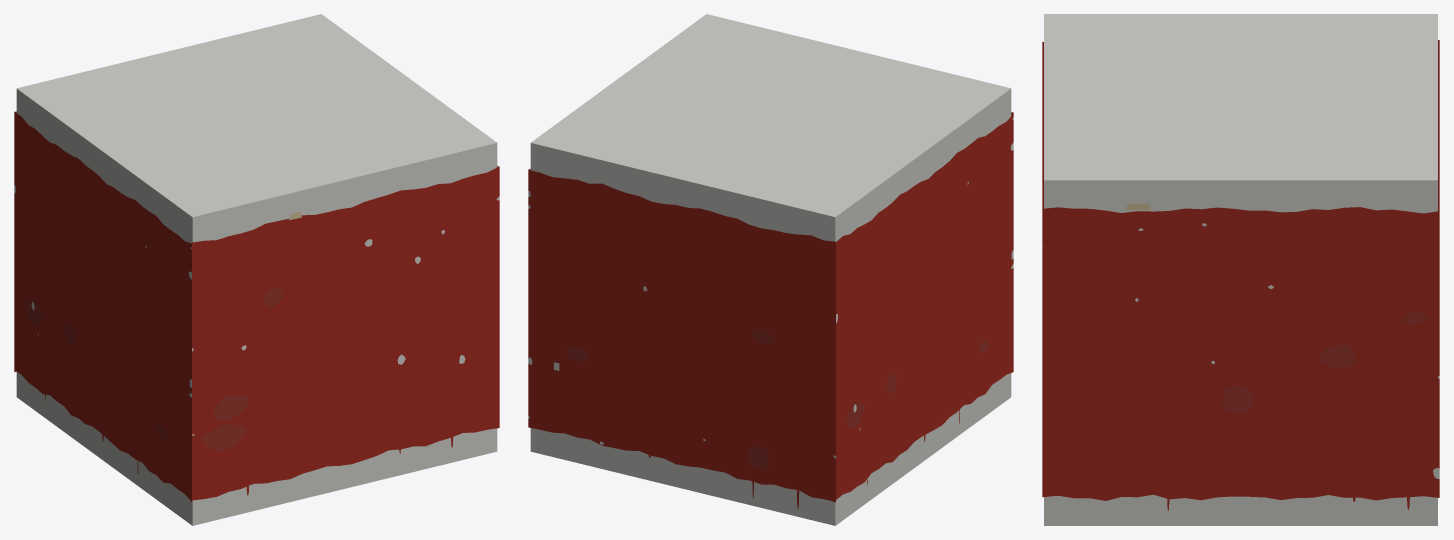
File: pillar_band_rot.glb
3 views of the same model, side by side, from view 1: azimuth 30°, elevation 25°; view 2: azimuth 150°, elevation 25°; view 3: azimuth 270°, elevation 25° (orthographic). The views are drawn at different scales.
Visible parts, largest first — view 1: band; view 2: band; view 3: band.
Boxes of the visible parts, box(x1,y1,x2,y2) form: band: box(14, 14, 499, 525); band: box(528, 14, 1013, 525); band: box(1042, 14, 1439, 525).
Bounding box in the file's own units: 1 × 0.96 × 1.
